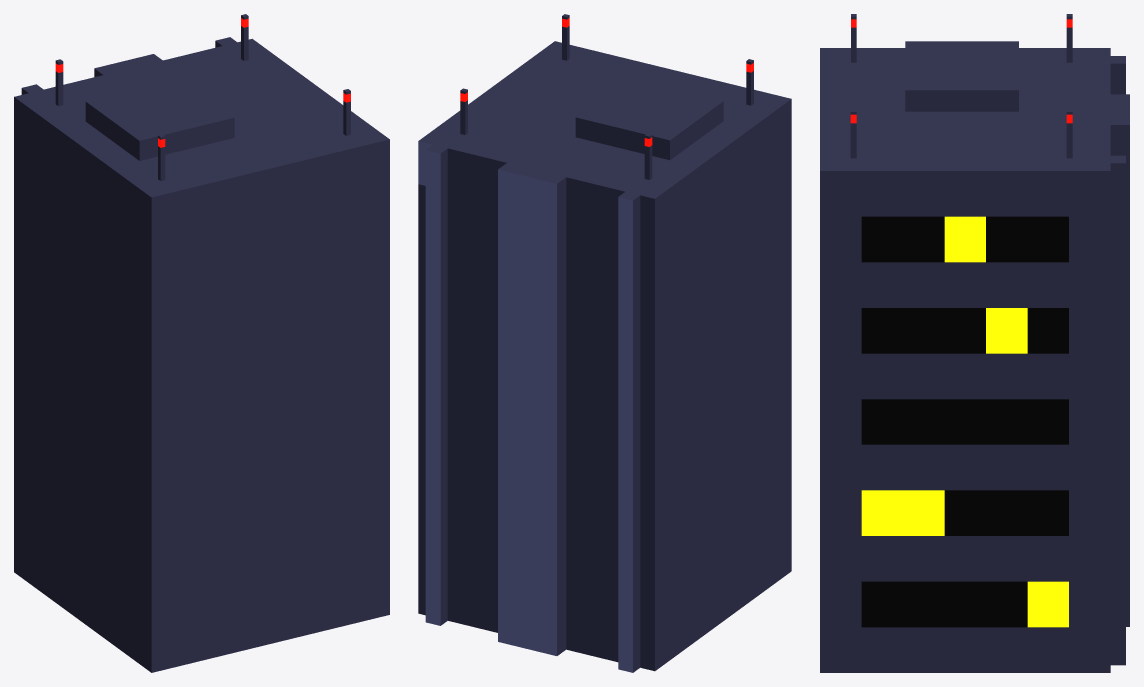
Rendered from house4.glb.
3 renders of one model, left to right at view 1: azimuth 30°, elevation 25°; view 2: azimuth 150°, elevation 25°; view 3: azimuth 270°, elevation 25°, orthographic. The views are drawn at different scales.
Parts seen in each view (by area): view 1: 立方体.002, 立方体; view 2: 立方体.002, 立方体; view 3: 立方体.002, 立方体.
Part boxes in pixels (x1,y1,x2,y2): 立方体.002: (14, 37, 389, 672); 立方体: (85, 78, 234, 160); 立方体.002: (418, 41, 791, 672); 立方体: (575, 78, 723, 160); 立方体.002: (820, 48, 1129, 672); 立方体: (905, 41, 1018, 111).
Bounding box in the file's own units: 20 × 41.64 × 21.33.
